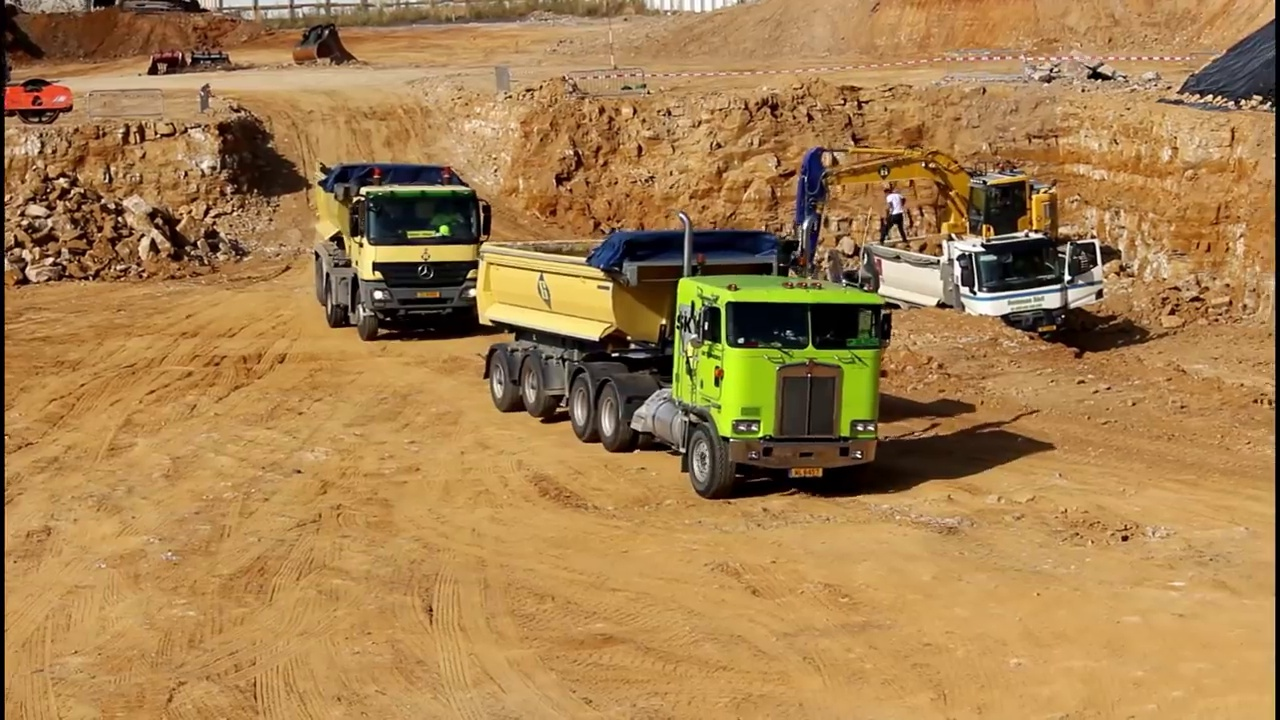compactor: (3, 64, 75, 128)
excavator: (782, 140, 1088, 314)
truck: (477, 209, 902, 502), (306, 157, 495, 344), (867, 227, 1107, 338)
worker: (877, 186, 915, 251)
